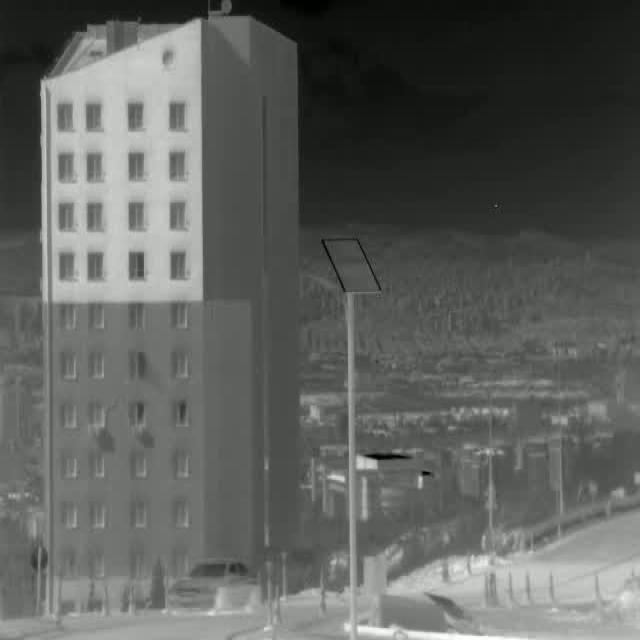Car: (167, 559, 259, 614)
